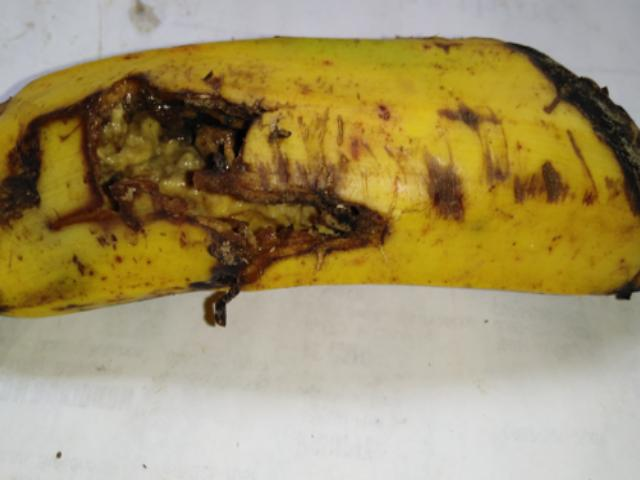rotten: (0, 71, 360, 329), (503, 20, 639, 240)
